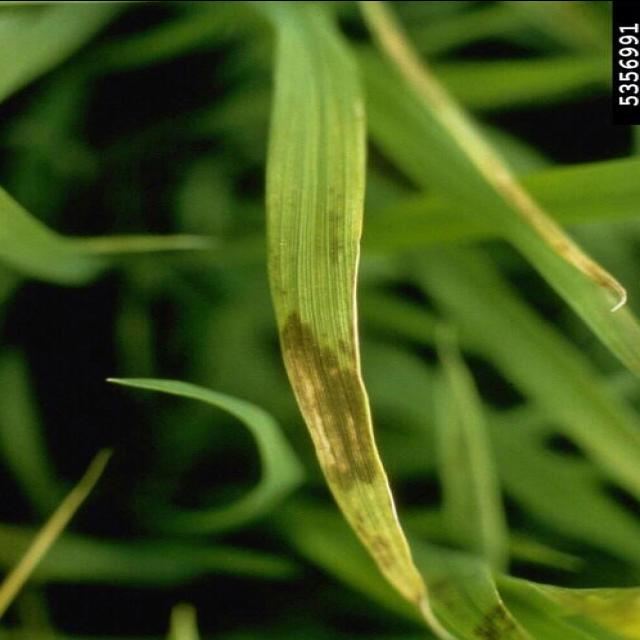Bacterial leaf blight: (365, 0, 626, 288), (277, 304, 385, 491), (349, 497, 424, 599)
